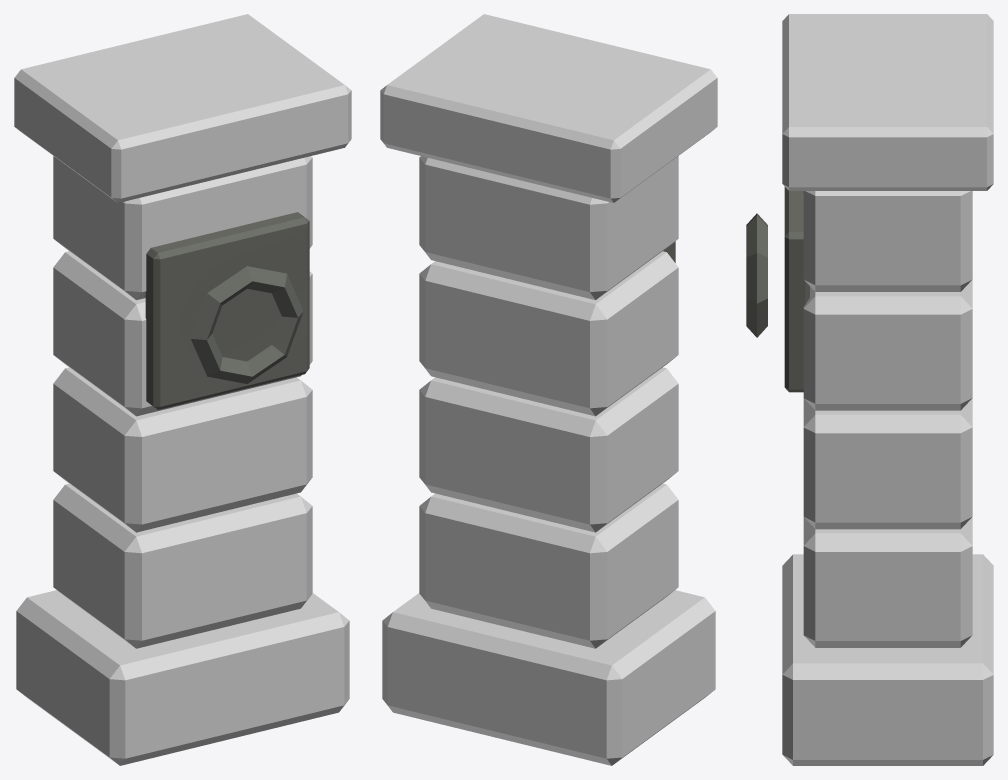
Rendered from WarrensC_CCS12_RailEndTerminal_Mars_SM.fbx.
The picture shows the model from 3 angles, left to right: view 1: azimuth 30°, elevation 25°; view 2: azimuth 150°, elevation 25°; view 3: azimuth 270°, elevation 25°; orthographic projection. The views are drawn at different scales.
Parts seen in each view (by area): view 1: WarrensC_CCS12_RailEndTerminal_Mars_SM.001; view 2: WarrensC_CCS12_RailEndTerminal_Mars_SM.001; view 3: WarrensC_CCS12_RailEndTerminal_Mars_SM.001.
Boxes of the visible parts, x1,y1,x2,y2 form: WarrensC_CCS12_RailEndTerminal_Mars_SM.001: [14, 14, 351, 765]; WarrensC_CCS12_RailEndTerminal_Mars_SM.001: [380, 14, 717, 765]; WarrensC_CCS12_RailEndTerminal_Mars_SM.001: [746, 14, 993, 765].
Bounding box in the file's own units: 40 × 35 × 100.
